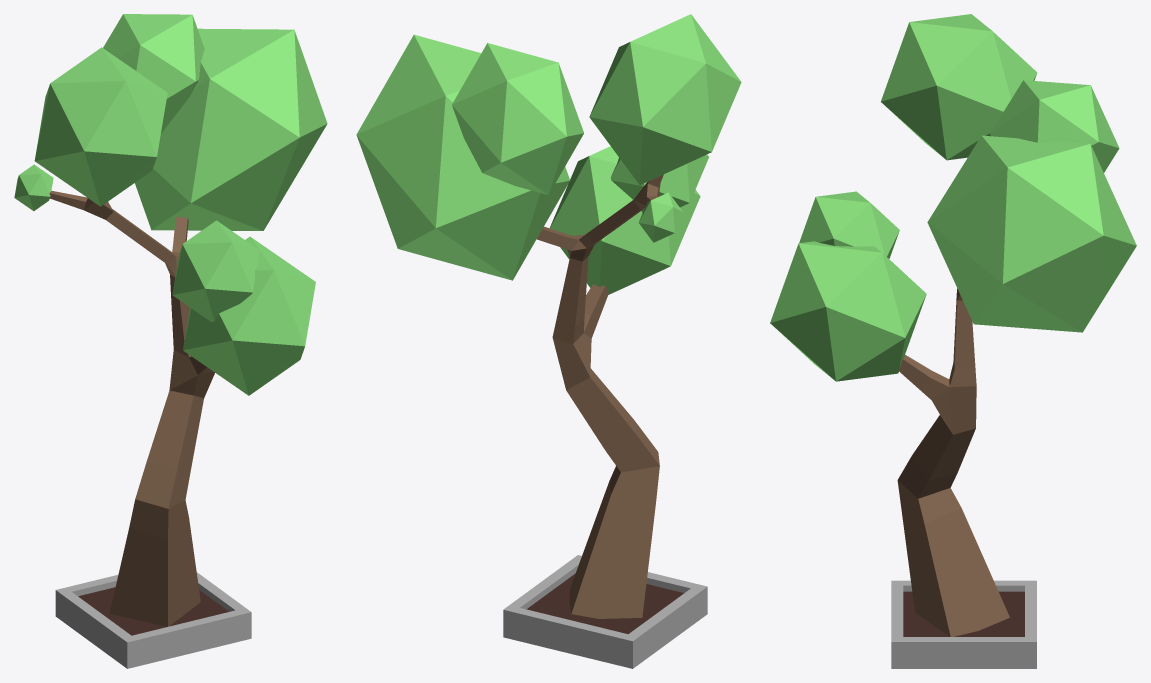
The model's file is Street Tree 1.fbx.
The picture shows the model from 3 angles, left to right: view 1: azimuth 30°, elevation 25°; view 2: azimuth 150°, elevation 25°; view 3: azimuth 270°, elevation 25°; orthographic projection. The views are drawn at different scales.
Parts seen in each view (by area): view 1: Street Tree 1; view 2: Street Tree 1; view 3: Street Tree 1.
Boxes of the visible parts, x1=… form: Street Tree 1: x1=14, y1=14, x2=327, y2=668; Street Tree 1: x1=356, y1=14, x2=741, y2=668; Street Tree 1: x1=770, y1=14, x2=1136, y2=668.
Size of the model in its own units: 244 by 446 by 252.
Materials: 1 (1 with a texture image).
